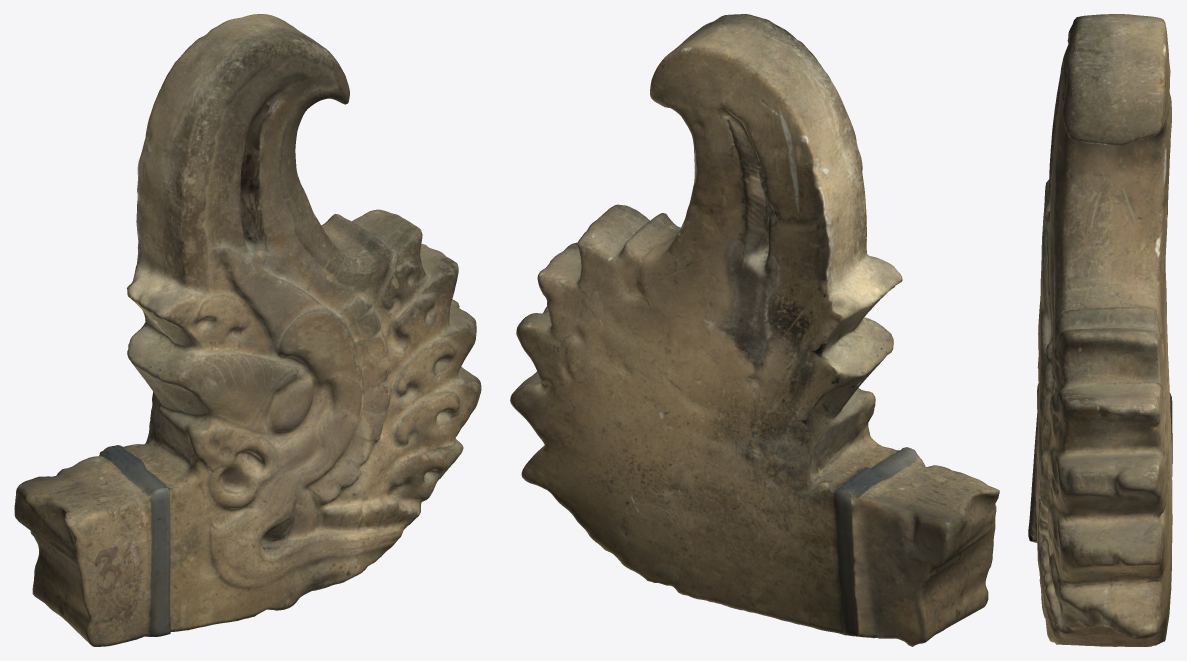
File: 30_vattrangtri.glb
3 renders of one model, left to right at view 1: azimuth 30°, elevation 25°; view 2: azimuth 150°, elevation 25°; view 3: azimuth 270°, elevation 25°, orthographic. The views are drawn at different scales.
Parts seen in each view (by area): view 1: remesh; view 2: remesh; view 3: remesh.
Boxes of the visible parts, x1,y1,x2,y2 form: remesh: [14, 14, 481, 646]; remesh: [510, 14, 999, 646]; remesh: [1028, 14, 1172, 646].
Bounding box in the file's own units: 0.4783 × 0.5795 × 0.1272.
Materials: 1 (1 with a texture image).
